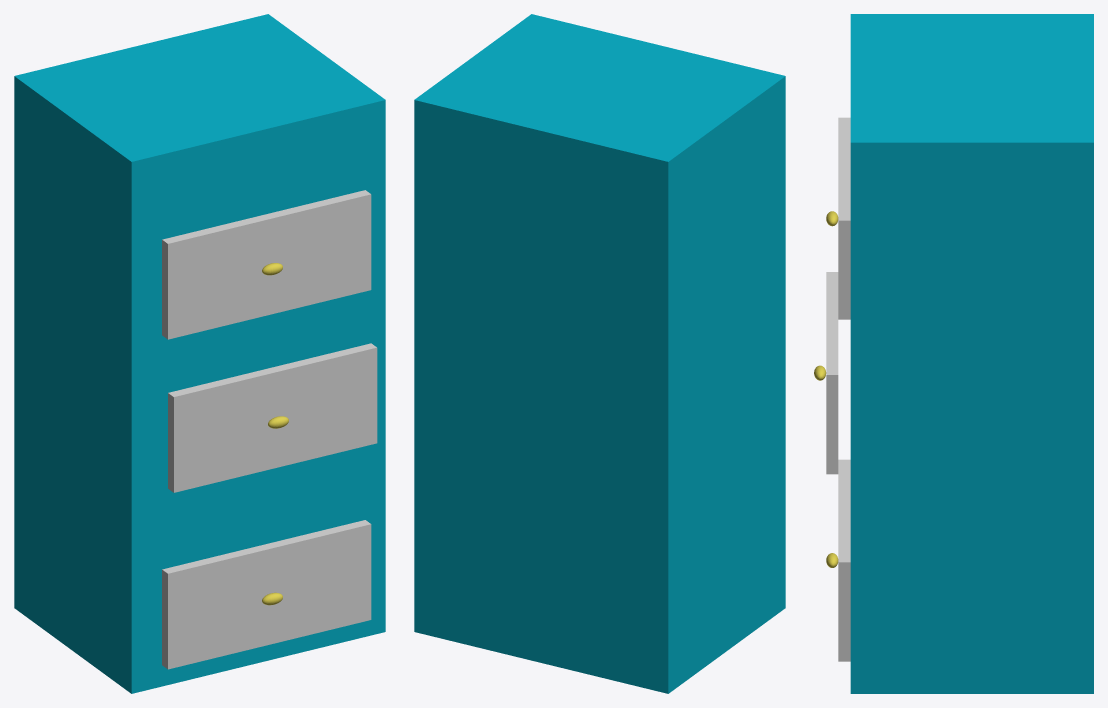
Rendered from Fantastic Blorr.glb.
3 renders of one model, left to right at view 1: azimuth 30°, elevation 25°; view 2: azimuth 150°, elevation 25°; view 3: azimuth 270°, elevation 25°, orthographic. The views are drawn at different scales.
Visible parts, largest first — view 1: Mesh_Mesh_head_geo.001_lambert2SG.001; view 2: Mesh_Mesh_head_geo.001_lambert2SG.001; view 3: Mesh_Mesh_head_geo.001_lambert2SG.001.
Part boxes in pixels (x1,y1,x2,y2): Mesh_Mesh_head_geo.001_lambert2SG.001: (14, 14, 385, 693); Mesh_Mesh_head_geo.001_lambert2SG.001: (414, 14, 785, 693); Mesh_Mesh_head_geo.001_lambert2SG.001: (814, 14, 1093, 693).
Size of the model in its own units: 25 by 50 by 23.
